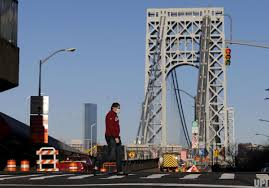mask: (109, 100, 123, 115)
